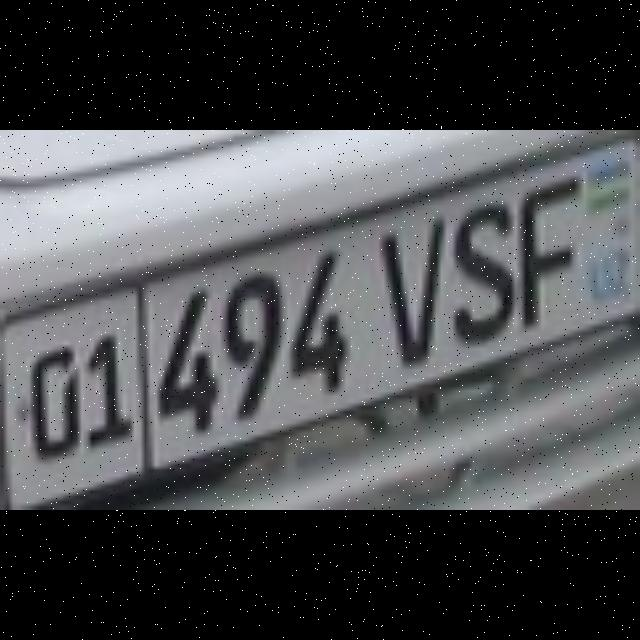0: (26, 342, 74, 452)
1: (79, 332, 127, 442)
4: (286, 240, 344, 384), (153, 284, 211, 426)
9: (222, 268, 276, 416)
F: (518, 172, 576, 326)
S: (450, 199, 512, 337)
V: (376, 215, 438, 363)
